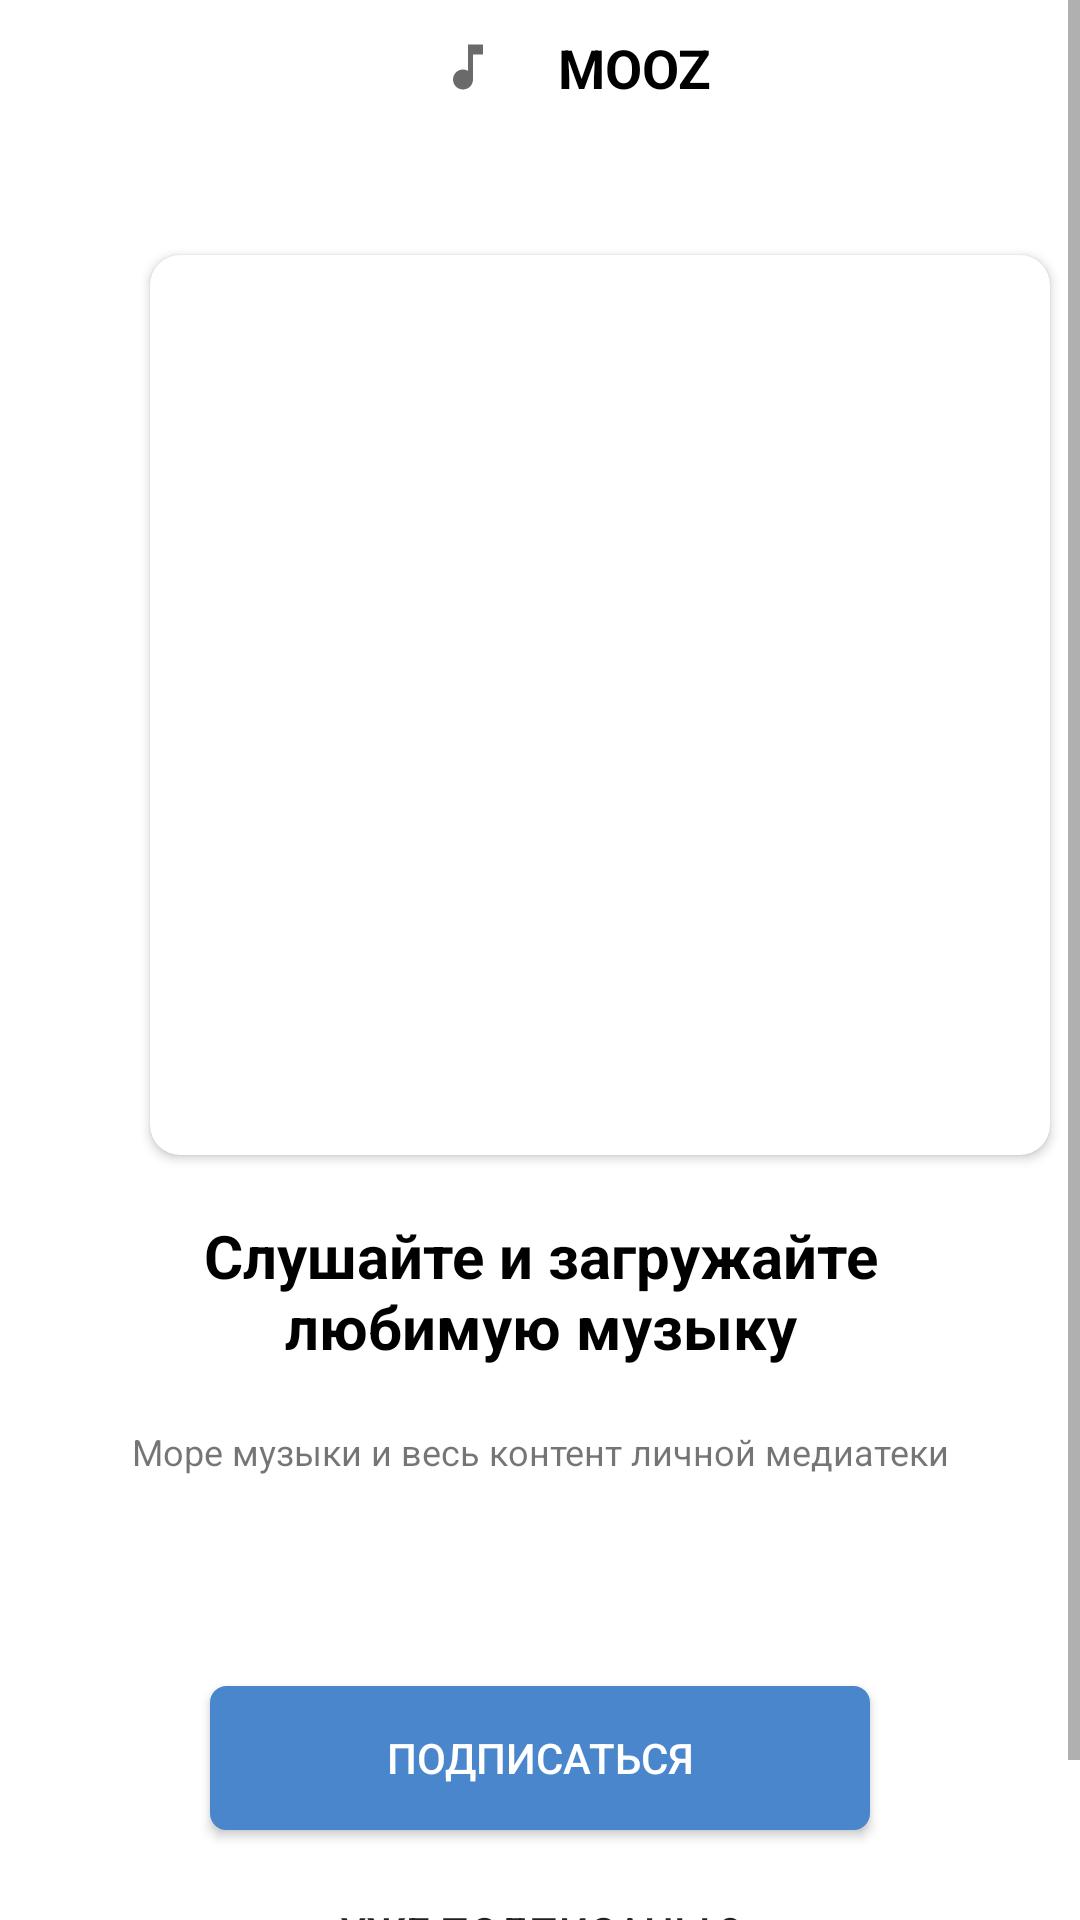

Where icons sit on this 1080px x 1920px app screen, as Rect(x1, y1, x2, y2):
music note: Rect(453, 44, 483, 90)
